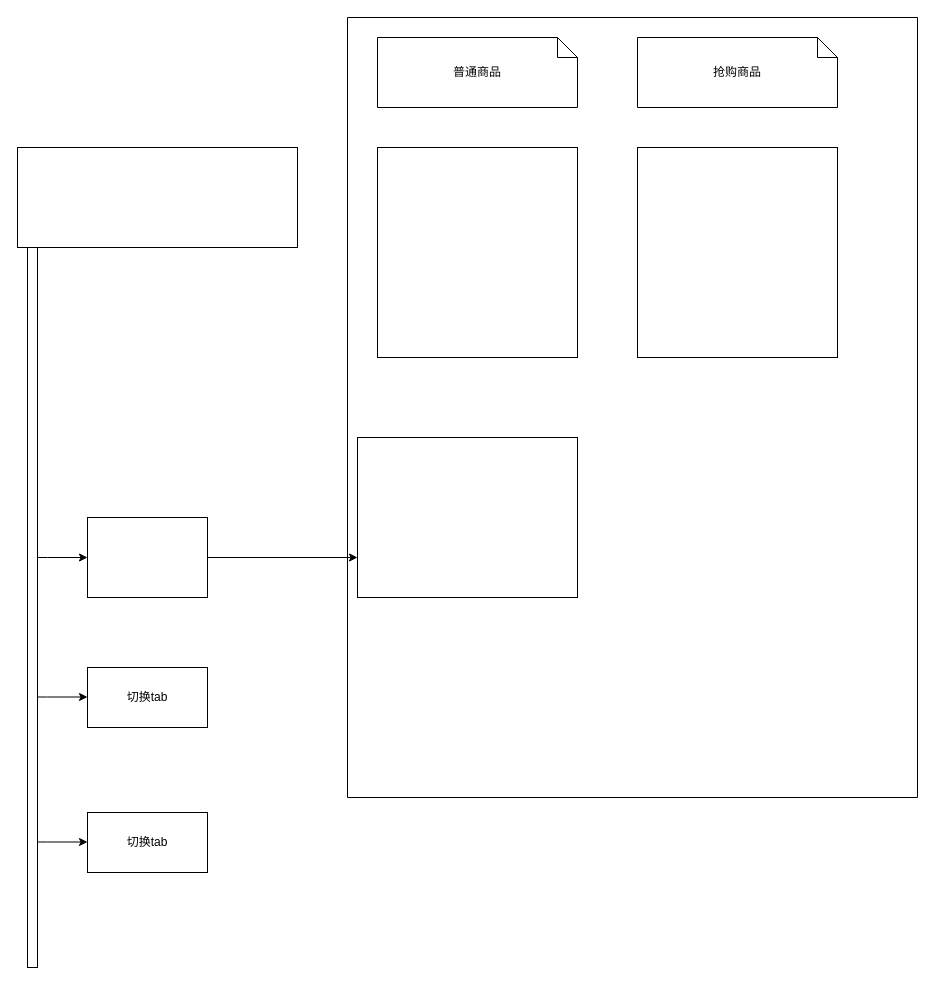
Some shapes in this 935 by 985 pixel diagram are drawn without their labels. The shapes that lost their labels are listed below. From the top down, each one's centre as x and y in pixels, then its label:
the point at 157,197: 进入商详
the point at 147,557: 切换色卡
